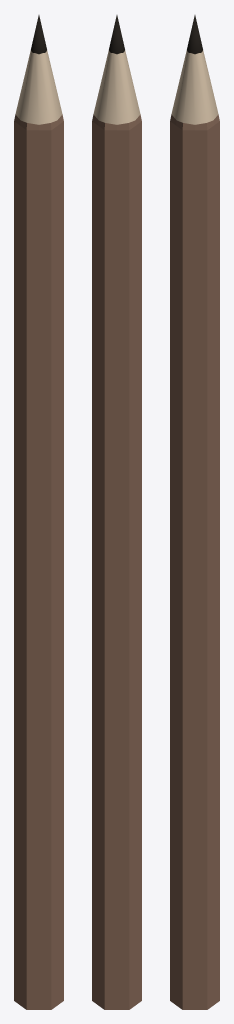
File: Pencil.fbx
3 views of the same model, side by side, from view 1: azimuth 90°, elevation 25°; view 2: azimuth 210°, elevation 25°; view 3: azimuth 270°, elevation 25° (orthographic).
Parts seen in each view (by area): view 1: Pencil; view 2: Pencil; view 3: Pencil.
Boxes of the visible parts, box(x1,y1,x2,y2) form: Pencil: box(14, 15, 63, 1009); Pencil: box(92, 15, 141, 1009); Pencil: box(170, 15, 219, 1009).
Bounding box in the file's own units: 0.6928 × 17.45 × 0.8.
